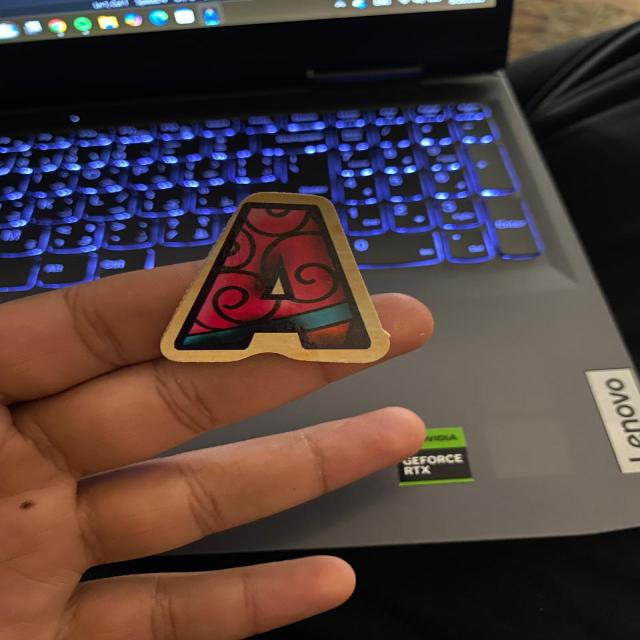A: (161, 192, 389, 363)
